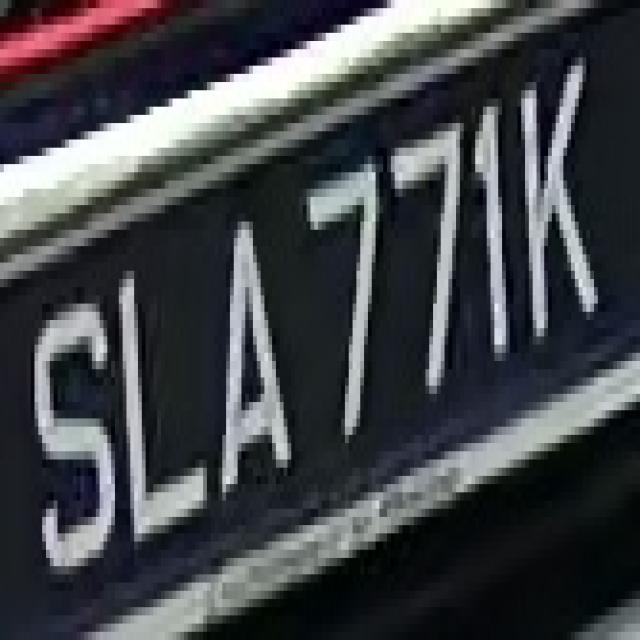1: (464, 90, 509, 386)
7: (295, 132, 395, 460), (380, 132, 468, 418)
A: (192, 172, 291, 517)
K: (514, 41, 610, 361)
L: (111, 254, 222, 550)
S: (19, 270, 115, 582)
